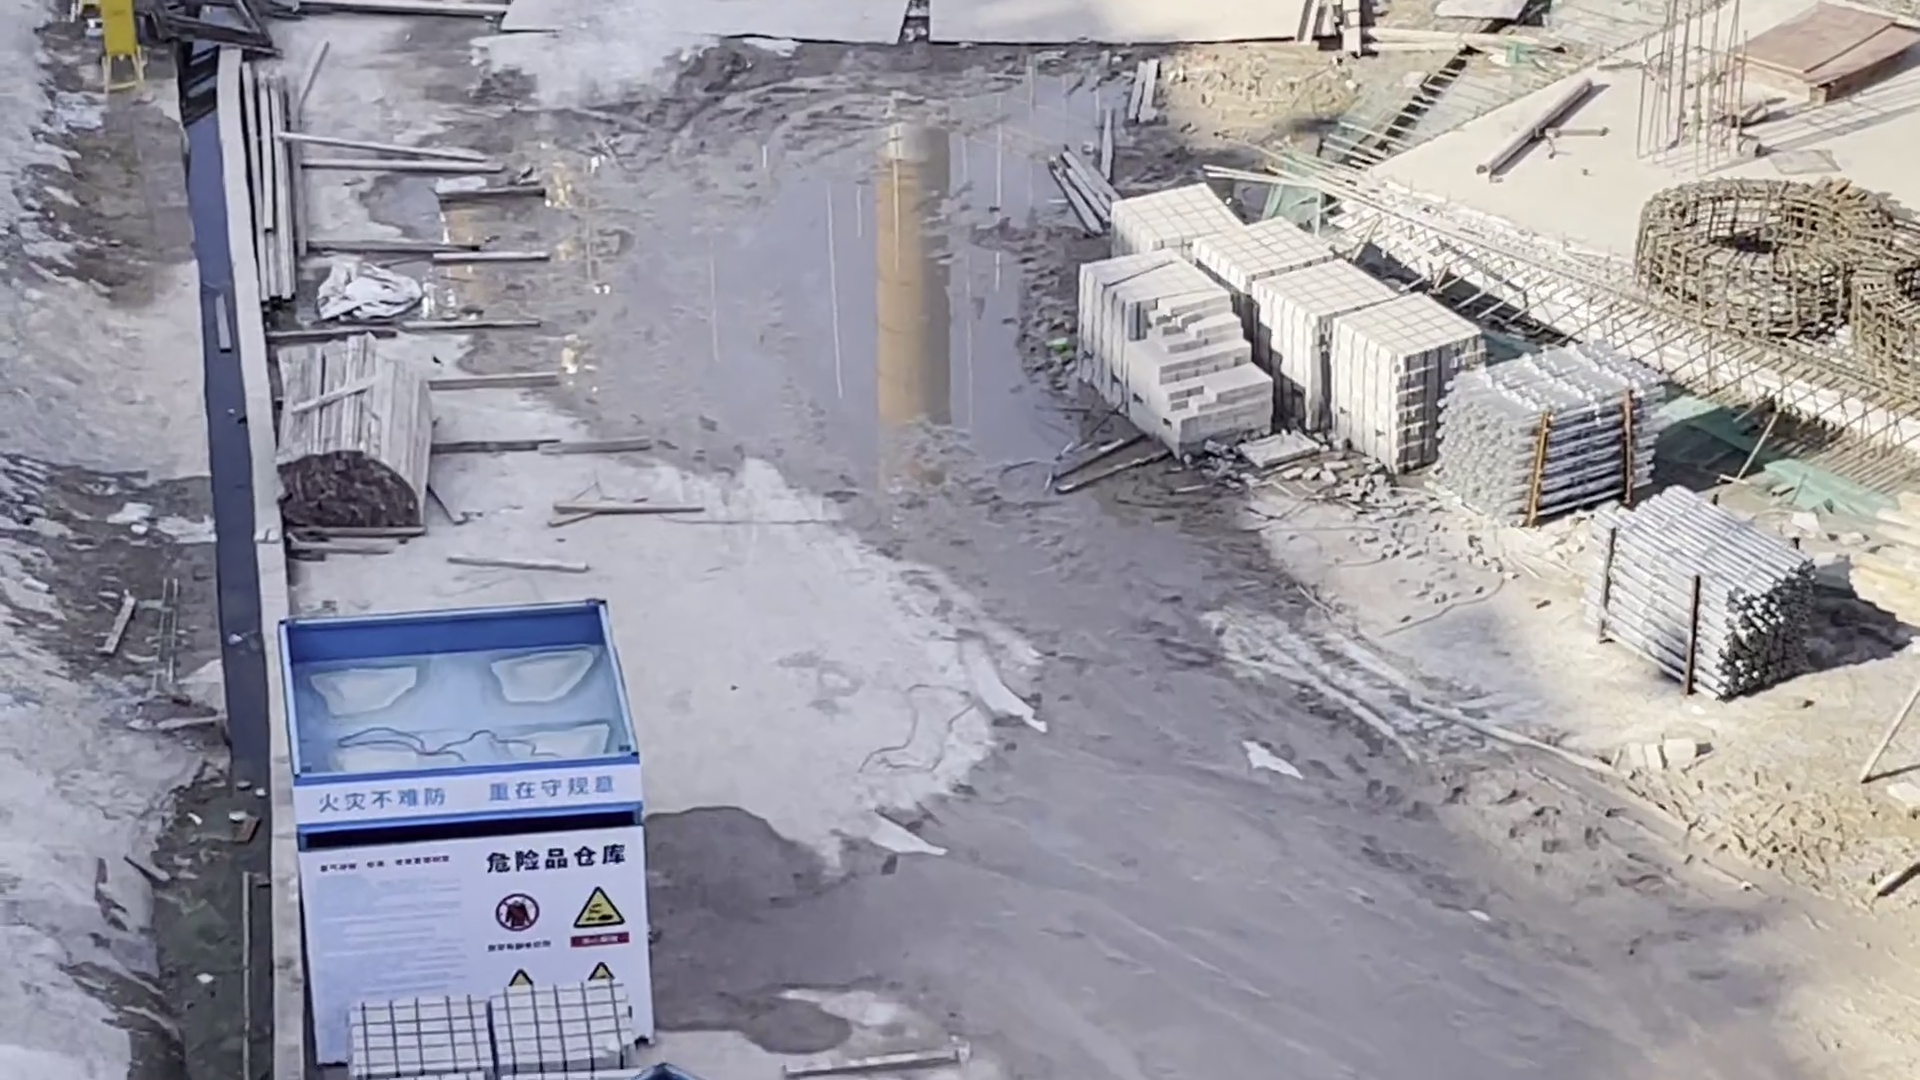board: (1753, 7, 1894, 96)
brick: (1083, 211, 1443, 454)
ebox: (92, 1, 146, 73)
scaffold: (1589, 491, 1813, 695), (1443, 357, 1662, 506)
slogan: (483, 885, 636, 976), (297, 774, 633, 808)
wood: (281, 357, 431, 539)
